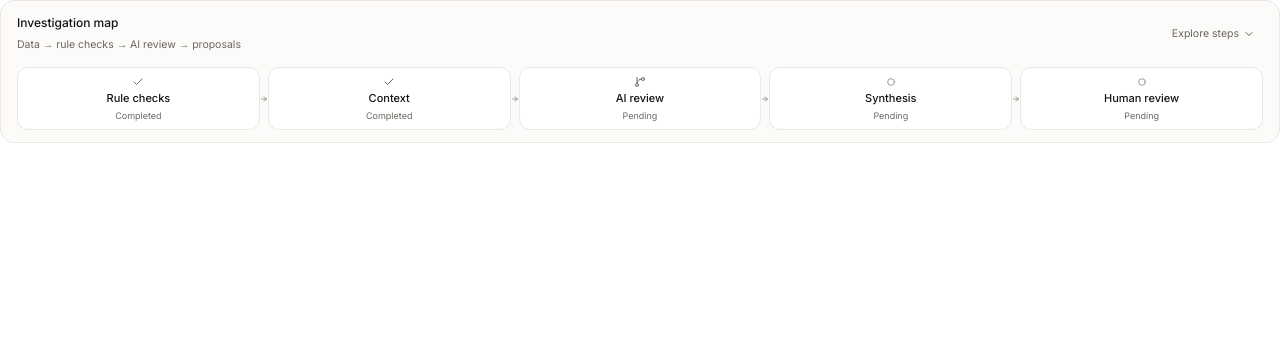
Test: MapaLogico — fases del mismo proceso › muestra cinco fases compactas y conserva los pasos operativos en el desglose
Expected: the text "Leer motor y memoria" is not shown
Click the button with aria-label "Rule checks: Completed": (138, 98) 17,67 -> 260,130
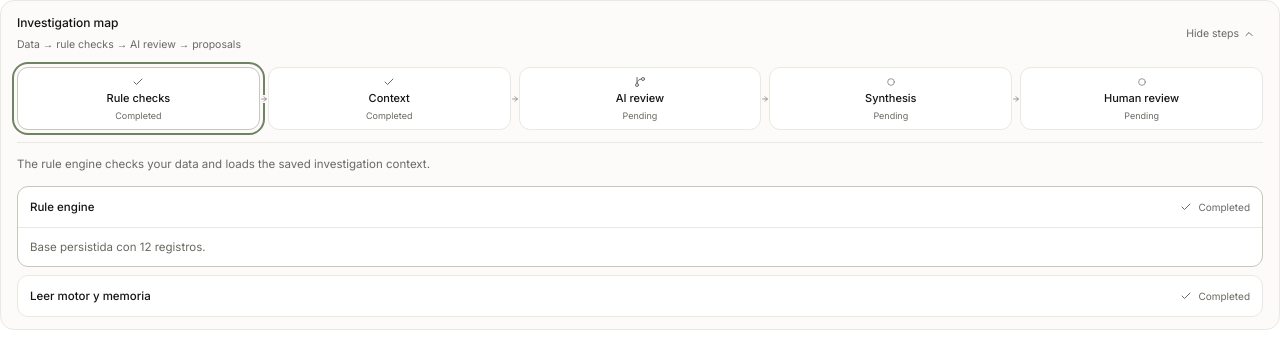
Now the text "Base persistida con 12 registros." is shown, box 18,227 -> 1262,266
Now the text "Leer motor y memoria" is shown, box 30,286 -> 151,306
Click the button "Hide steps": (1221, 34) 1178,18 -> 1263,50
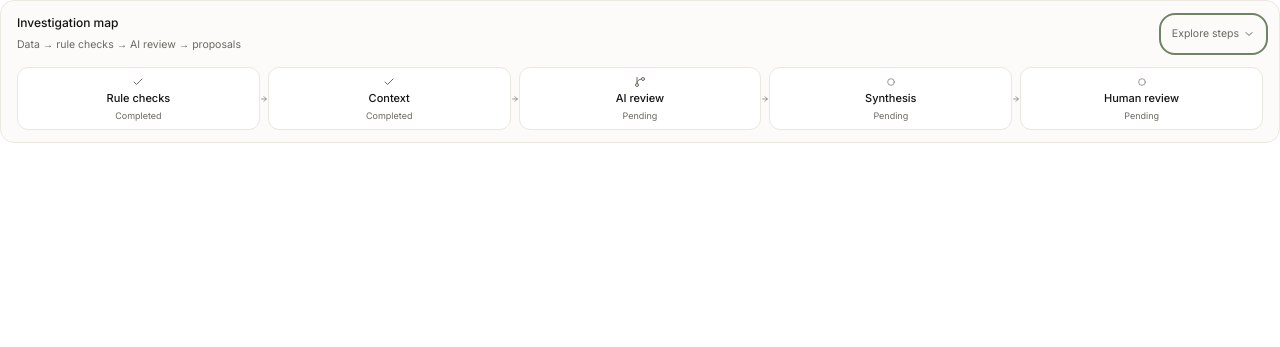
Now the button "Leer motor y memoria" is gone
